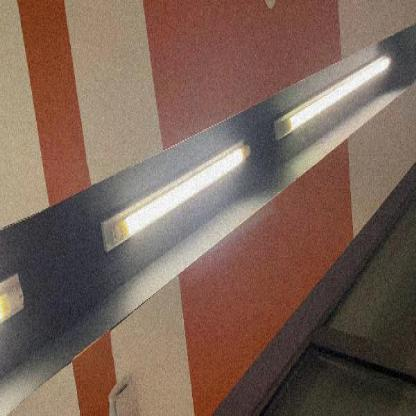light_on: (99, 132, 250, 258), (267, 44, 389, 152), (0, 262, 34, 338)
